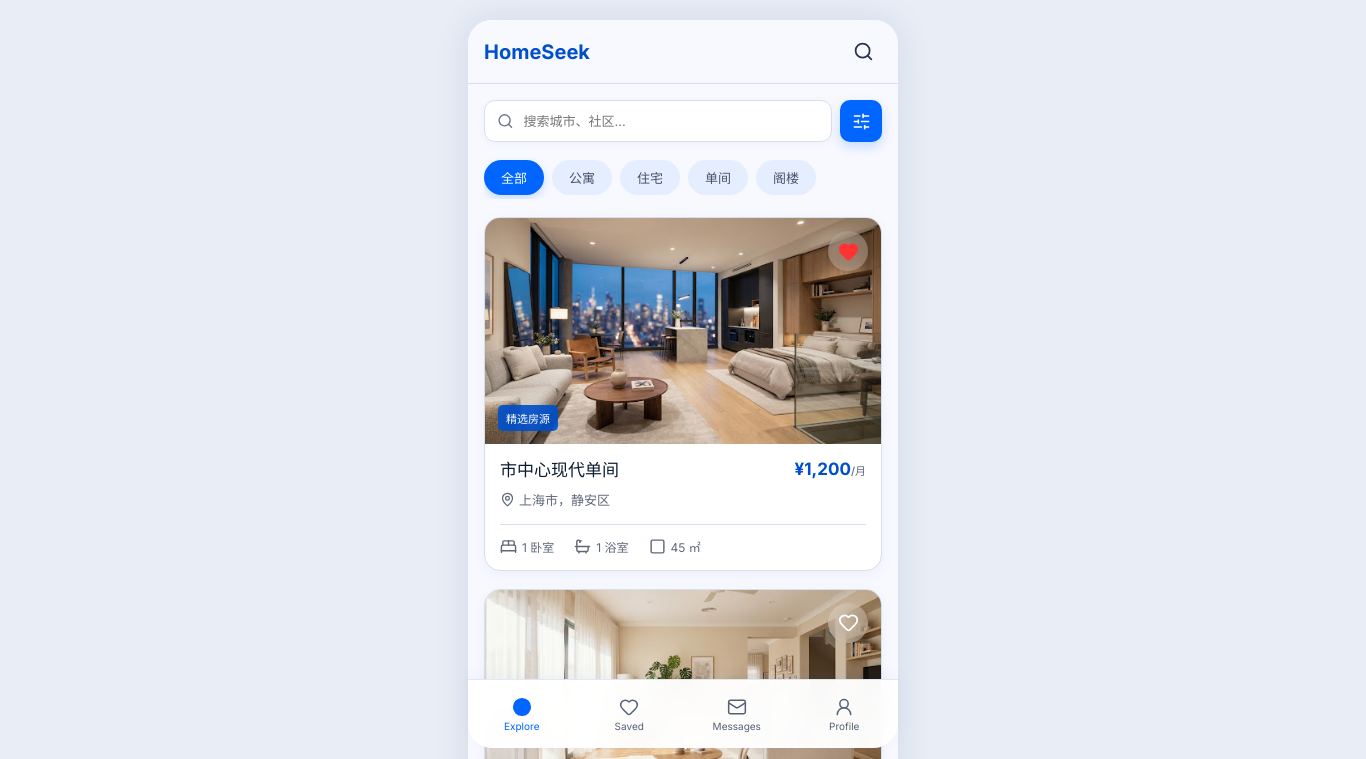
Scenario: HomeSeek H5 › toggles a saved item and submits the contact sheet
The image size is (1366, 759).
Click the 1st button named "收藏".
click(848, 251)  # box [828,231,868,271]
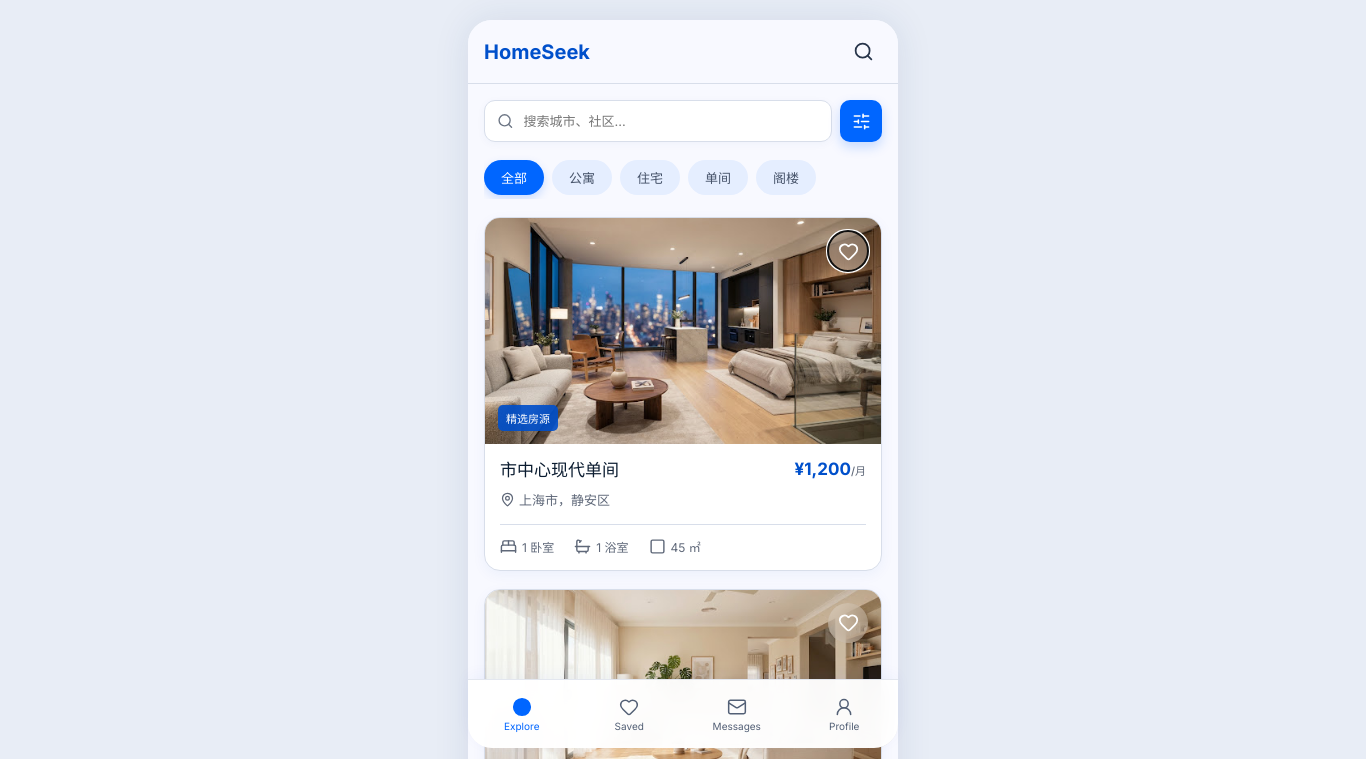
Click the heading "市中心现代单间".
click(560, 470)  # box [500,459,619,482]
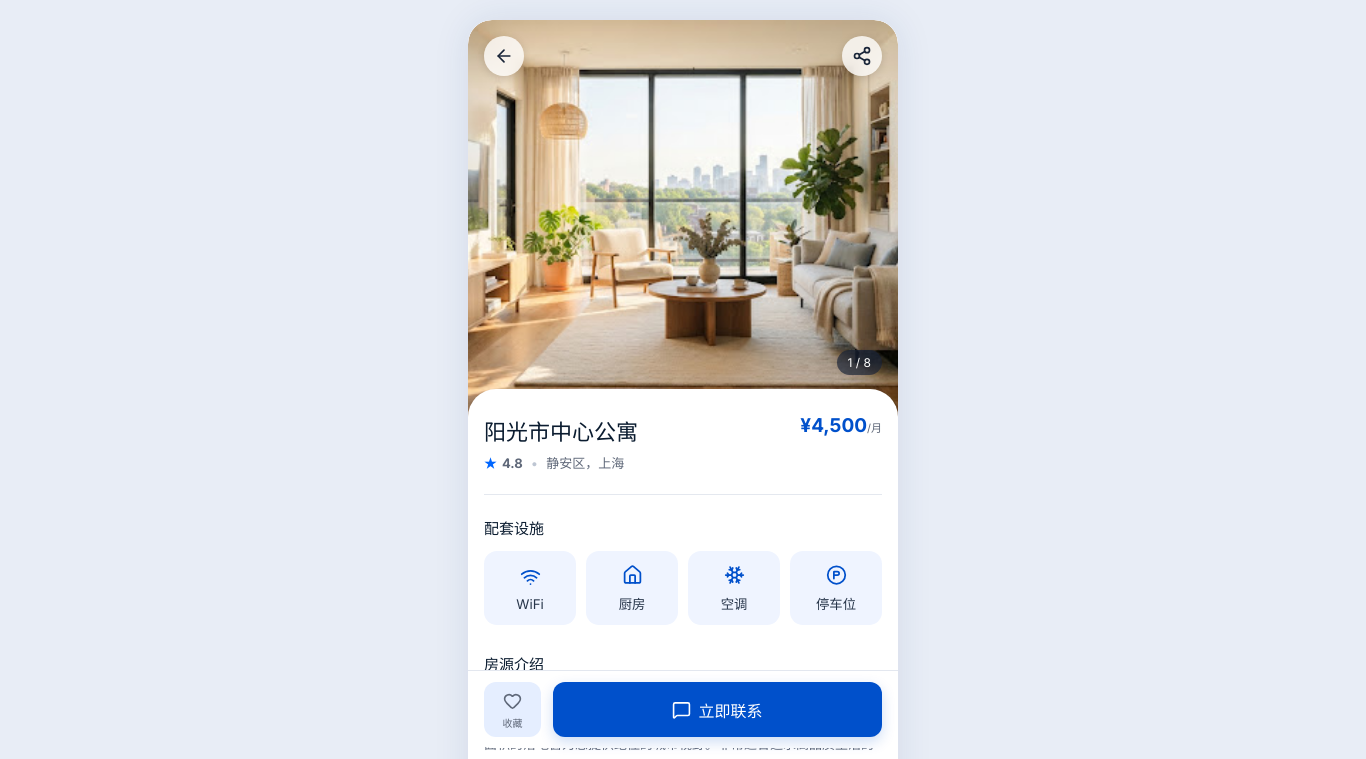
expect the button "收藏" is shown: met, box [484,682,541,737]
Click the button "立即联系".
click(718, 710)  # box [553,682,882,737]
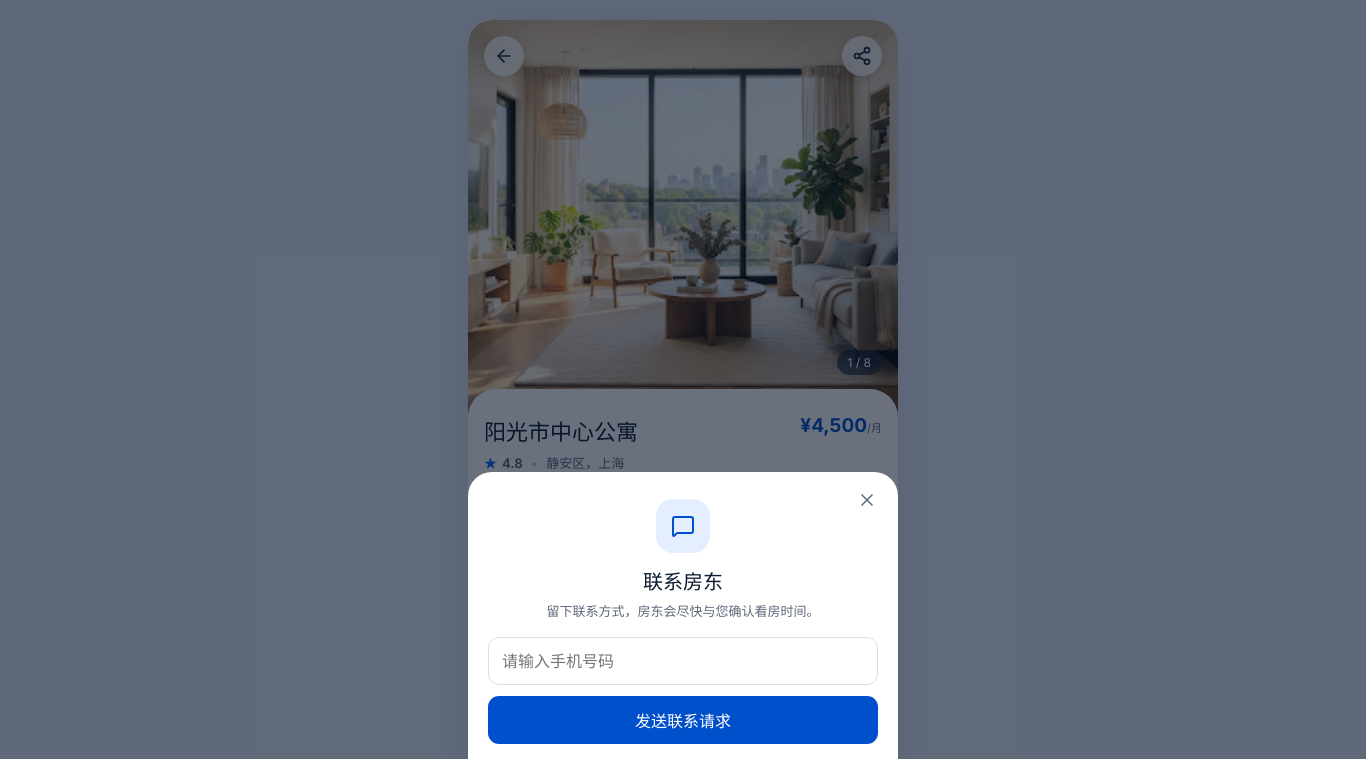
expect the heading "联系房东" is shown: met, box [643,570,723,594]
Type "13800138000" into the field labelled "手机号码".
click(683, 661); type("13800138000")  # box [488,637,878,685]
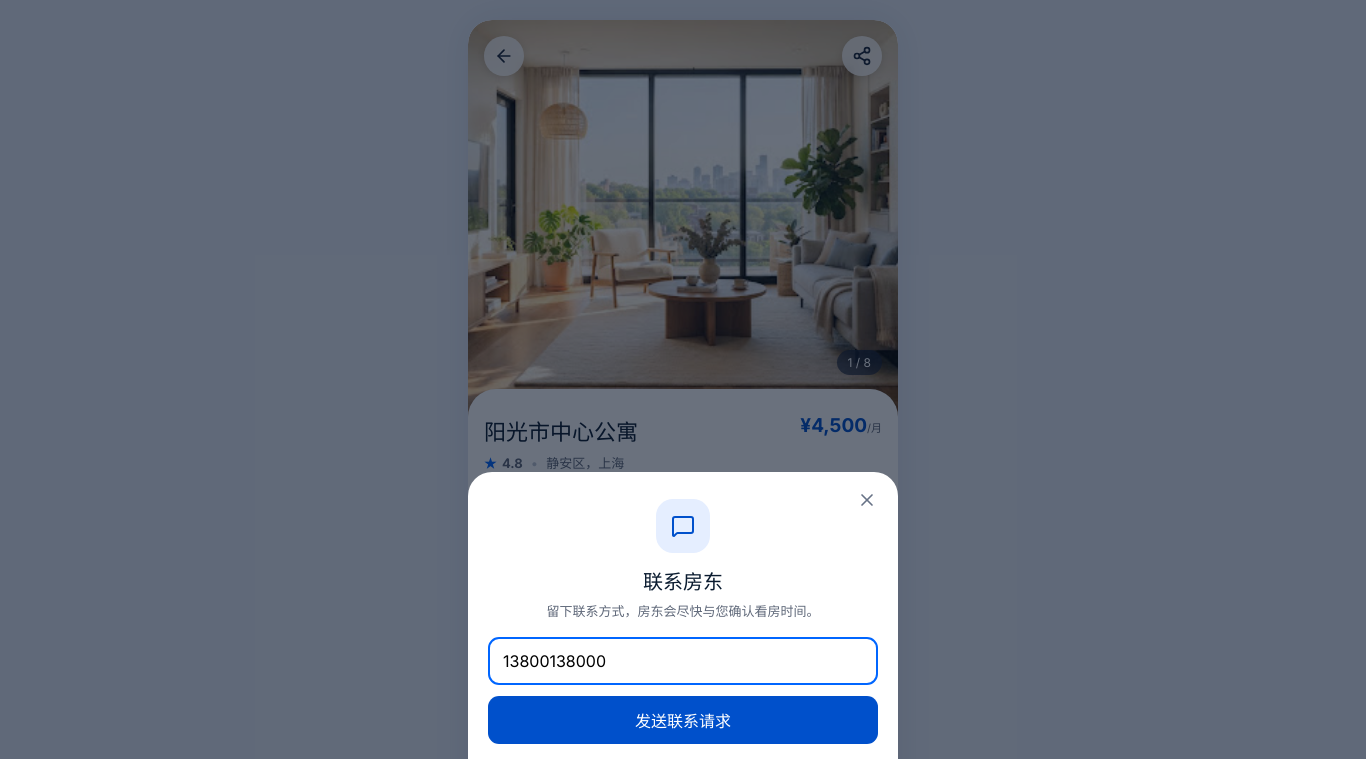
Click the button "发送联系请求".
click(683, 720)  # box [488,696,878,744]
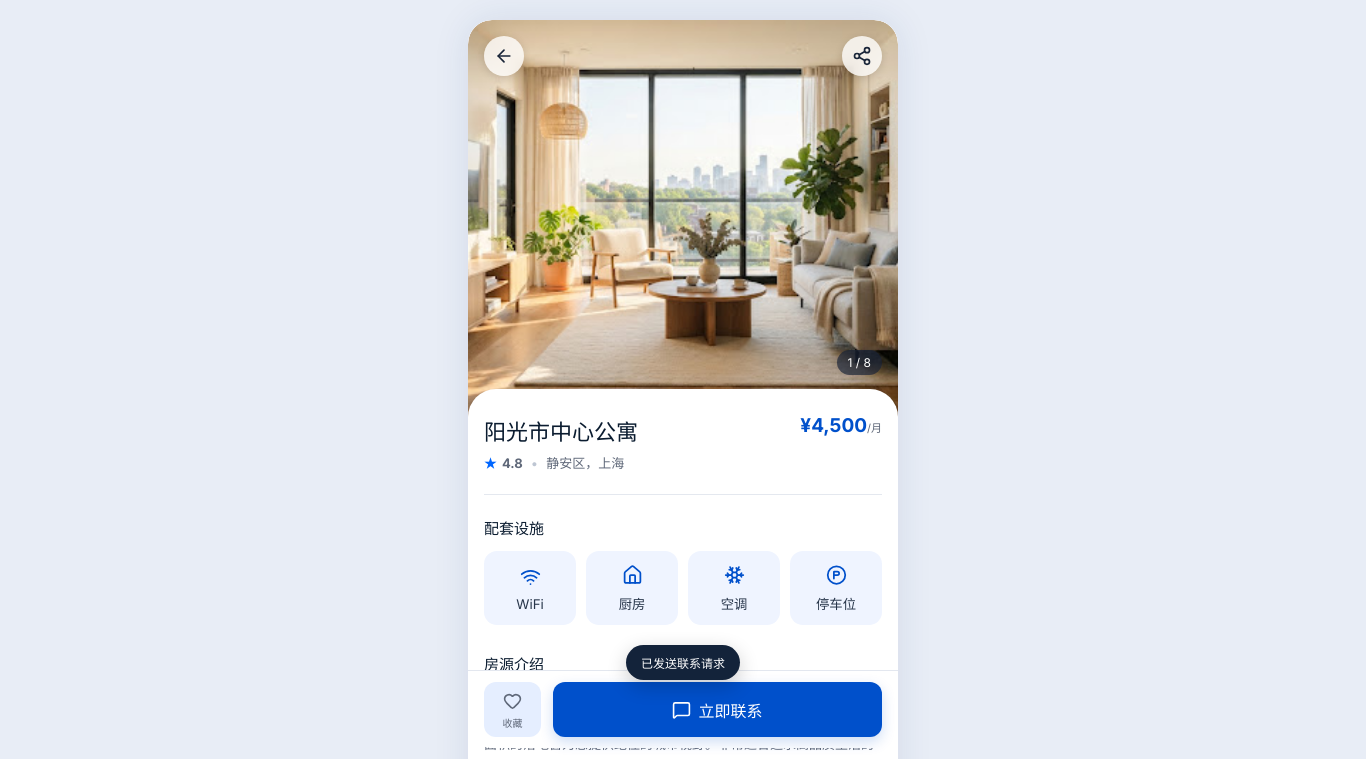
expect the text "已发送联系请求" is shown: met, box [626,645,740,680]
